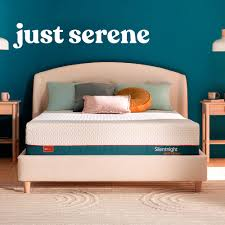bed-matress: (24, 107, 200, 145)
